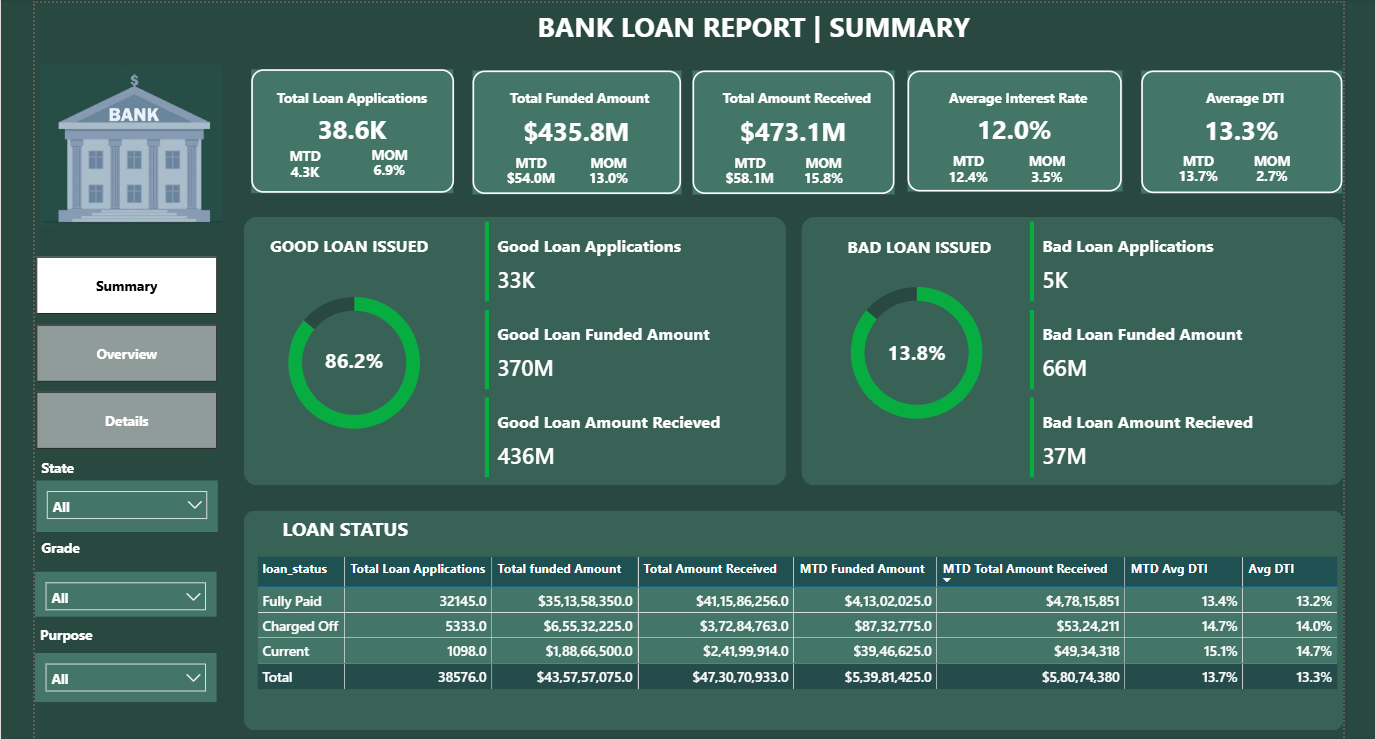

What the dashboard file says about the page in this screenshot:
{"tool":"powerbi","page":{"name":"Summary","canvas":[1280,720],"ordinal":0},"visuals":[{"type":"textbox","box":[435.3,0,535.6,52.6],"z":0},{"type":"card","title":"Total Loan Applications","fields":{"Values":["financial_loan.Total funded Amount"]},"box":[428,66,204.2,121.1],"z":0,"group":"g1"},{"type":"card","title":"Total Loan Applications","fields":{"Values":["financial_loan.Total Amount Received"]},"box":[643.2,66,197.6,121.1],"z":0,"group":"g4"},{"type":"card","title":"Total Loan Applications","fields":{"Values":["financial_loan.Avg Interest Rate"]},"box":[853.5,66,209.9,118.6],"z":0,"group":"g6"},{"type":"card","title":"Total Loan Applications","fields":{"Values":["financial_loan.Avg DTI"]},"box":[1082.2,66,196.9,119.8],"z":0,"group":"g7"},{"type":"card","title":"Total Loan Applications","fields":{"Values":["financial_loan.Total Loan Applications"]},"box":[211.6,64.8,198.1,121.1],"z":1000,"group":"g11"},{"type":"card","title":"MTD","fields":{"Values":["financial_loan.MTD Avg Int Rate"]},"box":[873.9,145.1,77.2,39.5],"z":1000,"group":"g6"},{"type":"card","title":"MTD","fields":{"Values":["financial_loan.MTD Avg DTI"]},"box":[1101.3,145.9,72.5,39.9],"z":1000,"group":"g7"},{"type":"card","title":"MTD","fields":{"Values":["financial_loan.MTD Funded Amount"]},"box":[447.9,146.7,75.2,40.4],"z":1000,"group":"g1"},{"type":"card","title":"MTD","fields":{"Values":["financial_loan.MTD Total Amount Received"]},"box":[662.4,146.7,72.7,40.4],"z":1000,"group":"g4"},{"type":"shape","box":[204.2,209.1,530.7,262.9],"z":1000},{"type":"group","id":"g1","title":"Group 2","box":[428,66,204.2,121.1],"z":1001,"group":"g9"},{"type":"group","id":"g2","title":"Group 2","box":[643.2,66,197.6,121.1],"z":1001,"group":"g10"},{"type":"group","id":"g3","title":"Group 3","box":[1082.2,66,196.9,119.8],"z":2000},{"type":"textbox","box":[873.9,77.9,174.9,31.6],"z":2000,"group":"g6"},{"type":"textbox","box":[1101.3,78,164.1,32],"z":2000,"group":"g7"},{"type":"textbox","box":[447.9,78.1,170.2,32.3],"z":2000,"group":"g1"},{"type":"textbox","box":[662.4,78.1,164.7,32.3],"z":2000,"group":"g4"},{"type":"card","title":"MTD","fields":{"Values":["financial_loan.MTD Loan Applications"]},"box":[227.5,140.6,73.4,40.4],"z":2000,"group":"g11"},{"type":"group","id":"g4","title":"Group 3","box":[643.2,66,197.6,121.1],"z":2001,"group":"g2"},{"type":"group","id":"g5","title":"Group 3","box":[853.5,66,209.9,118.6],"z":2001,"group":"g8"},{"type":"group","id":"g6","title":"Group 4","box":[853.5,66,209.9,118.6],"z":2002,"group":"g5"},{"type":"group","id":"g7","title":"Group 4","box":[1082.2,66,196.9,119.8],"z":2002,"group":"g3"},{"type":"group","id":"g8","title":"Group 2","box":[853.5,66,209.1,118.6],"z":3000},{"type":"card","title":"MOM","fields":{"Values":["financial_loan.MOM Avg Int Rate"]},"box":[951.1,145.1,77.2,39.5],"z":3000,"group":"g6"},{"type":"card","title":"MOM","fields":{"Values":["financial_loan.MOM Avg DTI"]},"box":[1173.8,145.9,72.5,39.9],"z":3000,"group":"g7"},{"type":"card","title":"MOM","fields":{"Values":["financial_loan.MOM Funded Amount"]},"box":[523,146.7,75.2,40.4],"z":3000,"group":"g1"},{"type":"card","title":"MOM","fields":{"Values":["financial_loan.MOM Total Amount Received"]},"box":[735.1,146.7,72.7,40.4],"z":3000,"group":"g4"},{"type":"shape","box":[749.6,209.1,530.7,262.9],"z":4000},{"type":"group","id":"g9","title":"Group 1","box":[428,66,204.2,121.1],"z":5000},{"type":"textbox","box":[227.5,78.3,165.1,33],"z":5000,"group":"g11"},{"type":"donutChart","fields":{"Category":["financial_loan.Good vs Bad Loan"],"Y":["financial_loan.Total Loan Applications"]},"box":[204.2,266.6,216.4,171.2],"z":6000},{"type":"card","title":"MOM","fields":{"Values":["financial_loan.MOM Loan Applications"]},"box":[310.6,139.4,72.1,40.4],"z":7000,"group":"g11"},{"type":"card","fields":{"Values":["financial_loan.Good Loan %"]},"box":[266.6,327.7,91.7,47.7],"z":7000},{"type":"group","id":"g10","title":"Group 1","box":[643.2,66,198.1,121.1],"z":8000},{"type":"textbox","box":[220.1,221.3,174.9,35.5],"z":9000},{"type":"cardVisual","fields":{"Data":["financial_loan.Good Loan Applications","financial_loan.Good Loan Funded Amount","financial_loan.Good Loan Total Amount Recieved"]},"box":[435.3,209.1,283.7,262.9],"z":10000},{"type":"donutChart","fields":{"Category":["financial_loan.Good vs Bad Loan"],"Y":["financial_loan.Total Loan Applications"]},"box":[764.3,256.8,196.9,171.2],"z":11000},{"type":"group","id":"g11","title":"Group 5","box":[211.6,64.8,198.1,121.1],"z":12000},{"type":"cardVisual","fields":{"Data":["financial_loan.Bad Loan Applications","financial_loan.Bad Loan Funded Amount","financial_loan.Bad Loan Total Amount Recieved"]},"box":[968.5,209.1,284.9,262.9],"z":13000},{"type":"textbox","box":[777.7,222.6,174.9,35.5],"z":14000},{"type":"card","fields":{"Values":["financial_loan.Bad Loan %"]},"box":[816.9,319.2,91.7,47.7],"z":15000},{"type":"shape","box":[204.2,496.5,1076.1,215.2],"z":16000},{"type":"tableEx","fields":{"Values":["financial_loan.loan_status","financial_loan.Total Loan Applications","financial_loan.Total funded Amount","financial_loan.Total Amount Received","financial_loan.MTD Funded Amount","financial_loan.MTD Total Amount Received","financial_loan.MTD Avg DTI","financial_loan.Avg DTI"]},"box":[211.6,536.8,1068.8,159],"z":17000},{"type":"textbox","box":[237.2,496.5,150.4,40.4],"z":18000},{"type":"slicer","fields":{"Values":["financial_loan.address_state"]},"box":[1.2,467.1,177.3,50.1],"z":19000},{"type":"textbox","box":[1.2,440.2,89.3,31.8],"z":20000},{"type":"slicer","fields":{"Values":["financial_loan.grade"]},"box":[0,556.4,177.3,44],"z":21000},{"type":"textbox","box":[1.2,518.5,58.7,37.9],"z":22000},{"type":"slicer","fields":{"Values":["financial_loan.purpose"]},"box":[0,635.9,177.3,47.7],"z":23000},{"type":"textbox","box":[0,604.1,79.5,31.8],"z":24000},{"type":"pageNavigator","box":[1.2,248.2,177.3,189.5],"z":25000},{"type":"image","box":[0,39.1,188.3,200.5],"z":25002}]}

Visuals, with their boxes on the page's 1280x720 design canvas (x1, y1, x2, y2). These are canvas units, not pixel positions in the 1375x739 screenshot, which may show the page scaled, cropped or inside an application window:
textbox: <bbox>435, 0, 971, 53</bbox>
"Total Loan Applications" card: <bbox>428, 66, 632, 187</bbox>
"Total Loan Applications" card: <bbox>643, 66, 841, 187</bbox>
"Total Loan Applications" card: <bbox>854, 66, 1063, 185</bbox>
"Total Loan Applications" card: <bbox>1082, 66, 1279, 186</bbox>
"Total Loan Applications" card: <bbox>212, 65, 410, 186</bbox>
"MTD" card: <bbox>874, 145, 951, 185</bbox>
"MTD" card: <bbox>1101, 146, 1174, 186</bbox>
"MTD" card: <bbox>448, 147, 523, 187</bbox>
"MTD" card: <bbox>662, 147, 735, 187</bbox>
shape: <bbox>204, 209, 735, 472</bbox>
"Group 2" group: <bbox>428, 66, 632, 187</bbox>
"Group 2" group: <bbox>643, 66, 841, 187</bbox>
"Group 3" group: <bbox>1082, 66, 1279, 186</bbox>
textbox: <bbox>874, 78, 1049, 110</bbox>
textbox: <bbox>1101, 78, 1265, 110</bbox>
textbox: <bbox>448, 78, 618, 110</bbox>
textbox: <bbox>662, 78, 827, 110</bbox>
"MTD" card: <bbox>228, 141, 301, 181</bbox>
"Group 3" group: <bbox>643, 66, 841, 187</bbox>
"Group 3" group: <bbox>854, 66, 1063, 185</bbox>
"Group 4" group: <bbox>854, 66, 1063, 185</bbox>
"Group 4" group: <bbox>1082, 66, 1279, 186</bbox>
"Group 2" group: <bbox>854, 66, 1063, 185</bbox>
"MOM" card: <bbox>951, 145, 1028, 185</bbox>
"MOM" card: <bbox>1174, 146, 1246, 186</bbox>
"MOM" card: <bbox>523, 147, 598, 187</bbox>
"MOM" card: <bbox>735, 147, 808, 187</bbox>
shape: <bbox>750, 209, 1280, 472</bbox>
"Group 1" group: <bbox>428, 66, 632, 187</bbox>
textbox: <bbox>228, 78, 393, 111</bbox>
donutChart - financial_loan.Good vs Bad Loan x financial_loan.Total Loan Applications: <bbox>204, 267, 421, 438</bbox>
"MOM" card: <bbox>311, 139, 383, 180</bbox>
card - financial_loan.Good Loan %: <bbox>267, 328, 358, 375</bbox>
"Group 1" group: <bbox>643, 66, 841, 187</bbox>
textbox: <bbox>220, 221, 395, 257</bbox>
cardVisual - financial_loan.Good Loan Applications x financial_loan.Good Loan Funded Amount: <bbox>435, 209, 719, 472</bbox>
donutChart - financial_loan.Good vs Bad Loan x financial_loan.Total Loan Applications: <bbox>764, 257, 961, 428</bbox>
"Group 5" group: <bbox>212, 65, 410, 186</bbox>
cardVisual - financial_loan.Bad Loan Applications x financial_loan.Bad Loan Funded Amount: <bbox>968, 209, 1253, 472</bbox>
textbox: <bbox>778, 223, 953, 258</bbox>
card - financial_loan.Bad Loan %: <bbox>817, 319, 909, 367</bbox>
shape: <bbox>204, 496, 1280, 712</bbox>
tableEx - financial_loan.loan_status x financial_loan.Total Loan Applications: <bbox>212, 537, 1280, 696</bbox>
textbox: <bbox>237, 496, 388, 537</bbox>
slicer - financial_loan.address_state: <bbox>1, 467, 178, 517</bbox>
textbox: <bbox>1, 440, 90, 472</bbox>
slicer - financial_loan.grade: <bbox>0, 556, 177, 600</bbox>
textbox: <bbox>1, 518, 60, 556</bbox>
slicer - financial_loan.purpose: <bbox>0, 636, 177, 684</bbox>
textbox: <bbox>0, 604, 80, 636</bbox>
pageNavigator: <bbox>1, 248, 178, 438</bbox>
image: <bbox>0, 39, 188, 240</bbox>
